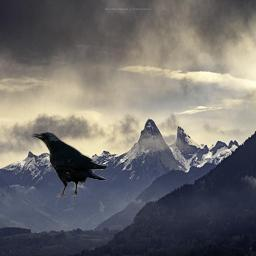Crow: (31, 131, 107, 200)
